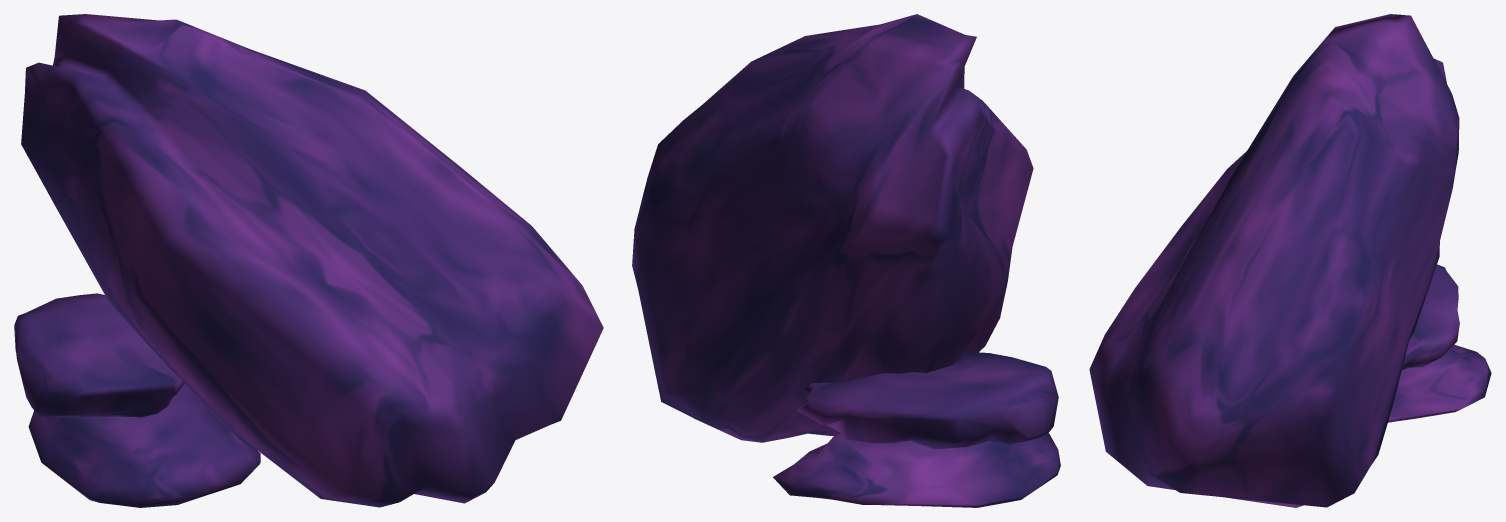
File: BasicMountain3FBX.fbx
3 renders of one model, left to right at view 1: azimuth 30°, elevation 25°; view 2: azimuth 150°, elevation 25°; view 3: azimuth 270°, elevation 25°, orthographic. The views are drawn at different scales.
Parts seen in each view (by area): view 1: pCube1, pCube4, pCube2; view 2: pCube1, pCube2, pCube4; view 3: pCube1, pCube4, pCube2.
Part boxes in pixels (<box>): pCube1: <box>21,14,603,507</box>; pCube4: <box>28,384,260,507</box>; pCube2: <box>14,293,184,417</box>; pCube1: <box>632,14,1033,442</box>; pCube2: <box>796,351,1058,449</box>; pCube4: <box>773,432,1060,507</box>; pCube1: <box>1089,14,1459,507</box>; pCube4: <box>1388,344,1491,422</box>; pCube2: <box>1401,264,1459,370</box>.
Size of the model in its own units: 72.88 by 68.62 by 64.41.
Materials: 1 (1 with a texture image).
